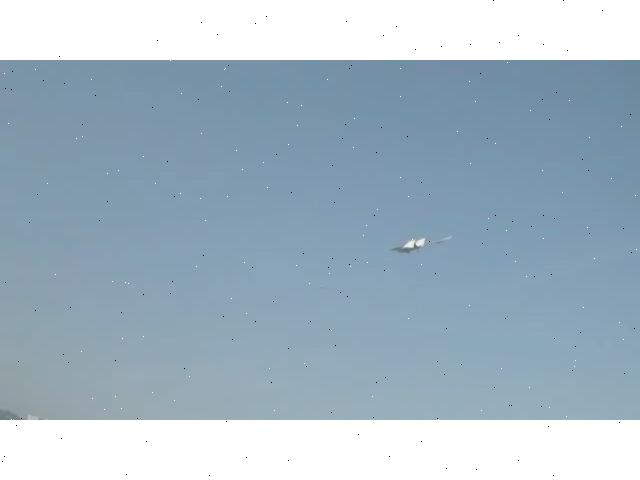Anti-Drone: (392, 238, 452, 254)
